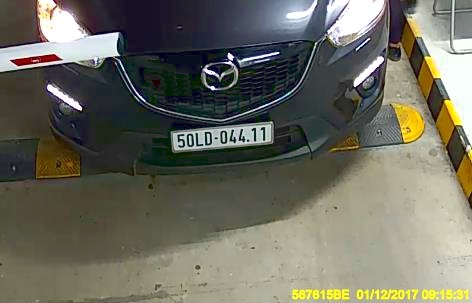plate: (167, 124, 273, 147)
